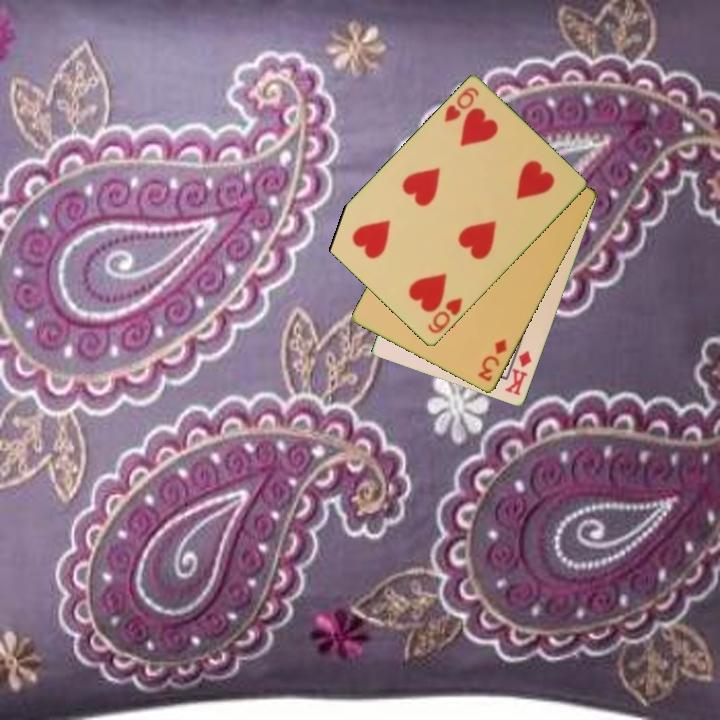3d: (474, 336, 510, 385)
6h: (440, 84, 482, 126), (424, 294, 465, 337)
Kd: (501, 347, 535, 399)
